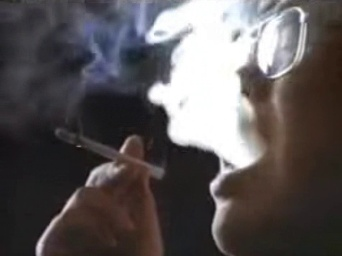smoke: (54, 126, 163, 177)
